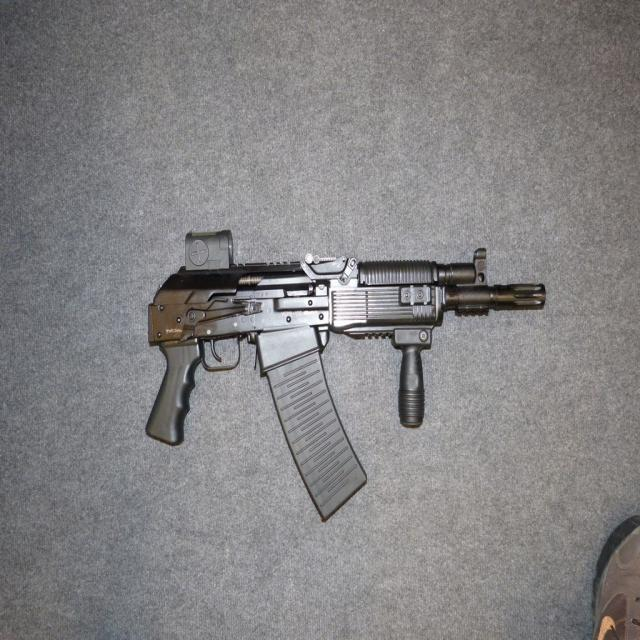firearm: (144, 227, 548, 517)
